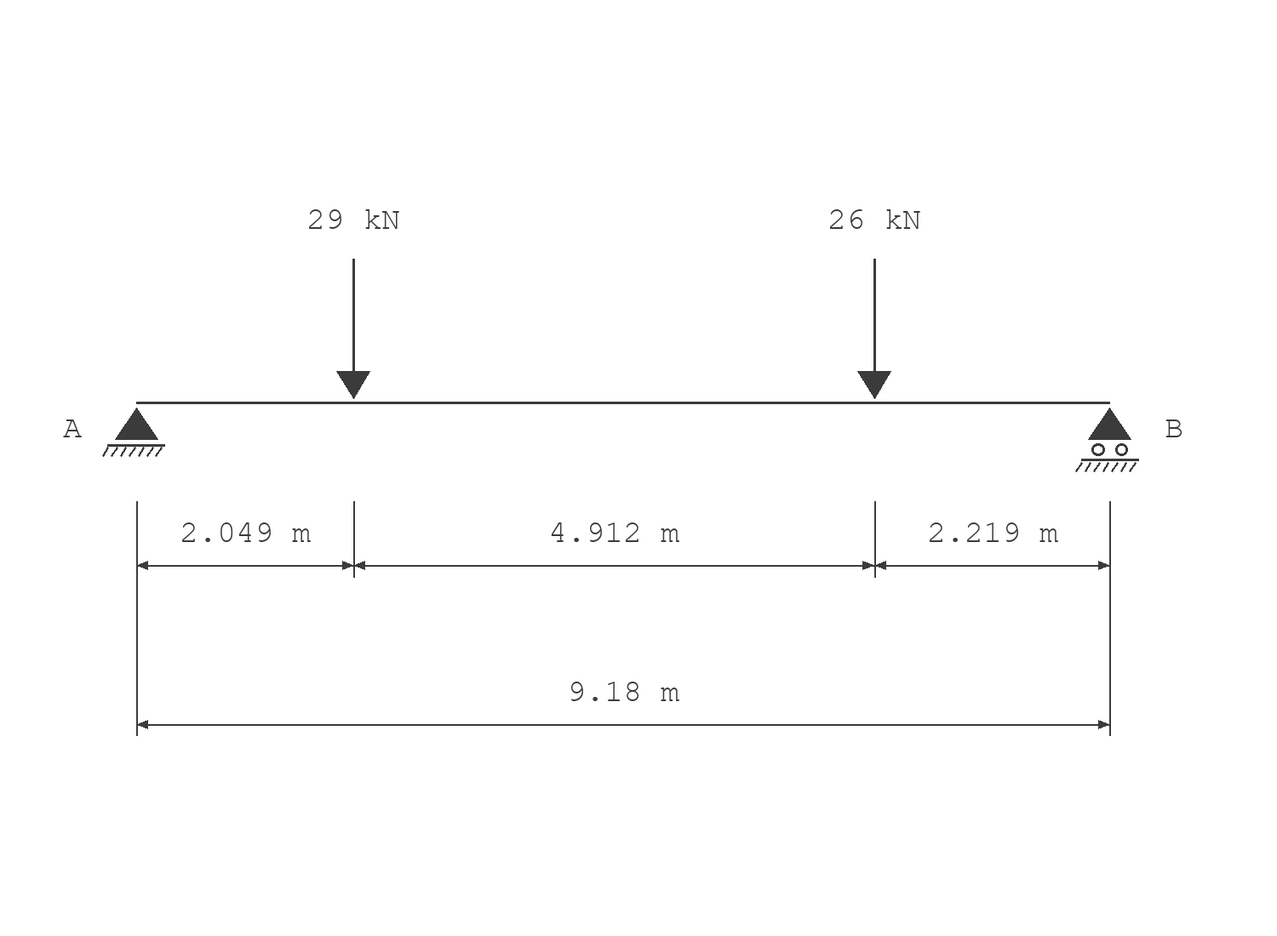pin_support: (102, 408, 165, 457)
point_load: (336, 259, 370, 399), (857, 259, 891, 399)
roller_support: (1075, 408, 1139, 472)
